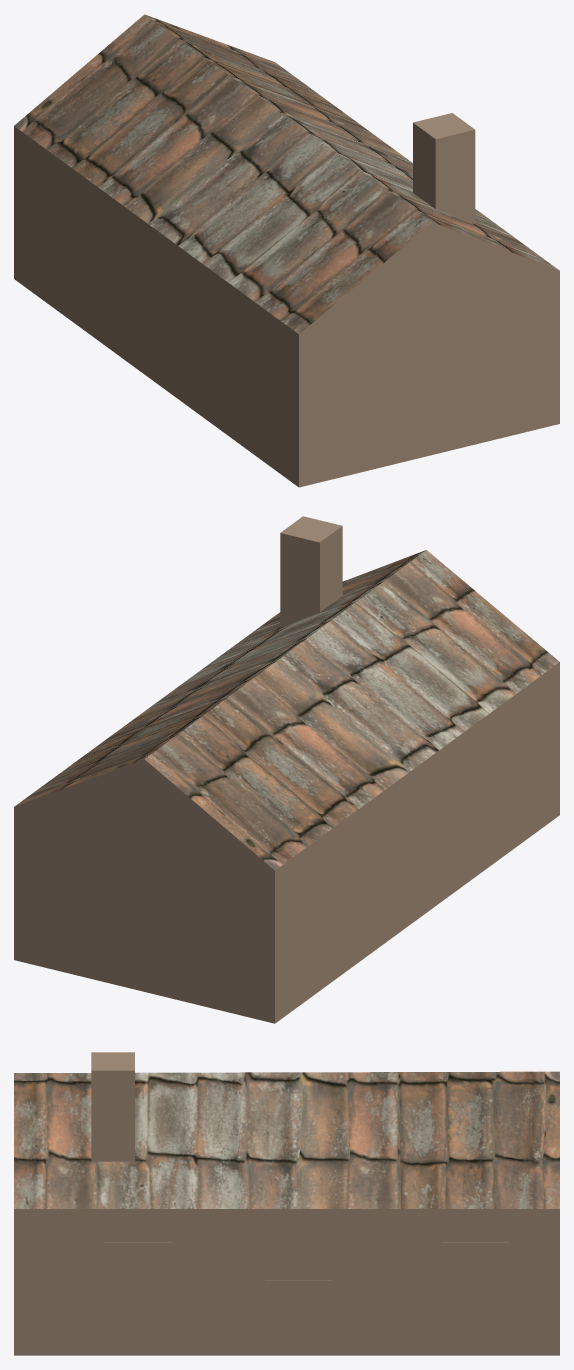
File: House-01.fbx
The picture shows the model from 3 angles, top to bottom: view 1: azimuth 30°, elevation 25°; view 2: azimuth 150°, elevation 25°; view 3: azimuth 270°, elevation 25°; orthographic projection. The views are drawn at different scales.
Visible parts, largest first — view 1: Cube.003; view 2: Cube.003; view 3: Cube.003.
Part boxes in pixels (left/top/right/bottom): Cube.003: left=14, top=14, right=559, bottom=487; Cube.003: left=14, top=516, right=559, bottom=1023; Cube.003: left=14, top=1052, right=559, bottom=1355.
Bounding box in the file's own units: 1326 × 1332 × 2496.
Materials: 1 (1 with a texture image).
